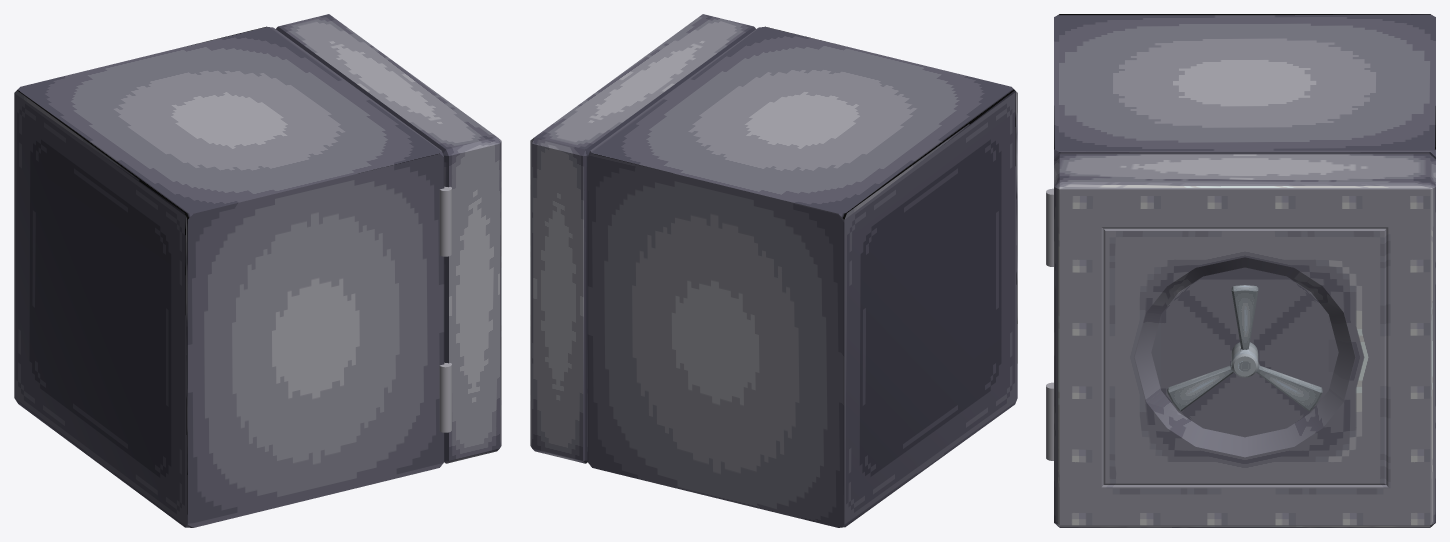
The model's file is Rush_Chamber.glb.
3 renders of one model, left to right at view 1: azimuth 30°, elevation 25°; view 2: azimuth 150°, elevation 25°; view 3: azimuth 270°, elevation 25°, orthographic. The views are drawn at different scales.
Parts seen in each view (by area): view 1: Cube.002, Cube.003, Cylinder.003, Cylinder.004; view 2: Cube.002, Cube.003; view 3: Cube.003, Cube.002, Cylinder.005, Cylinder.003, Cylinder.004.
Boxes of the visible parts, x1,y1,x2,y2 form: Cube.002: (14,26,444,527); Cube.003: (276,14,501,463); Cylinder.003: (439,186,451,256); Cylinder.004: (439,362,451,432); Cube.002: (587,26,1017,527); Cube.003: (530,14,755,463); Cube.003: (1054,154,1435,527); Cube.002: (1054,14,1435,159); Cylinder.005: (1167,285,1322,410); Cylinder.003: (1046,188,1053,266); Cylinder.004: (1046,382,1053,460).
Size of the model in its own units: 2.22 by 2 by 2.04.
Materials: 5 (5 with a texture image).
